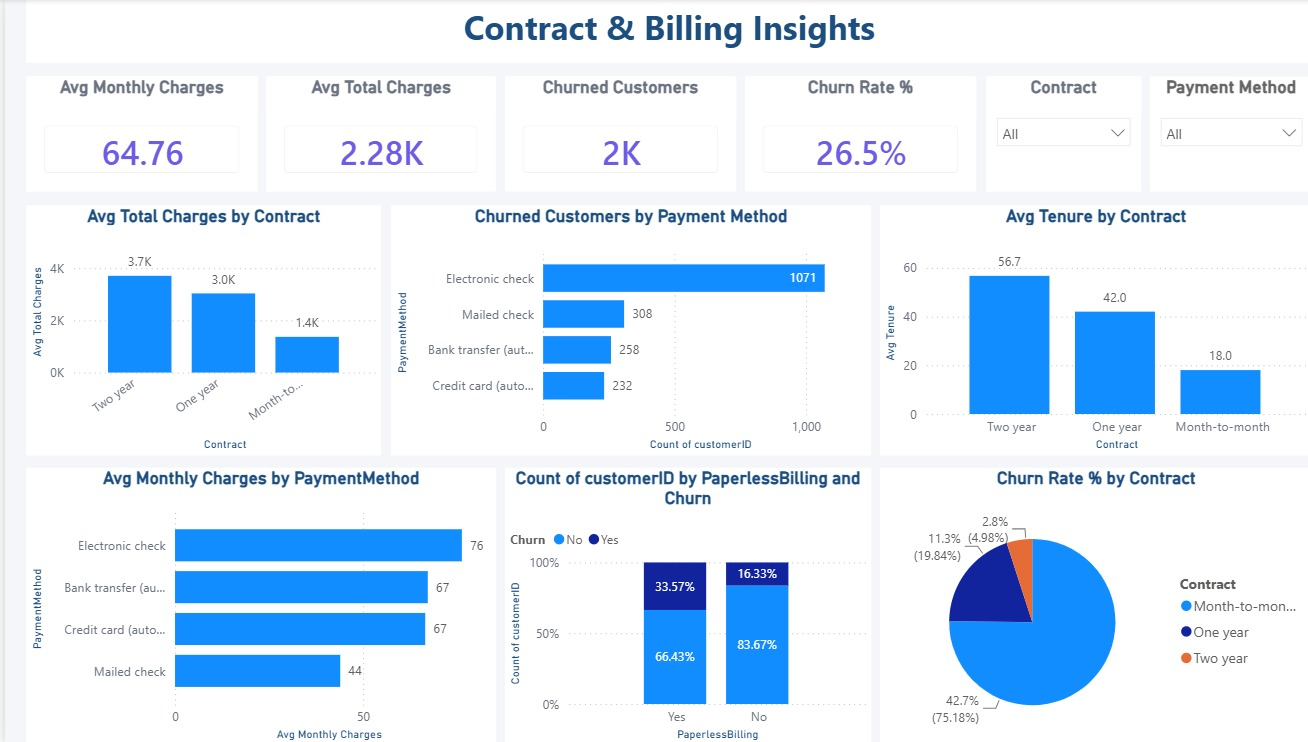

The dashboard page shown, as its layout file describes it:
{"tool":"powerbi","page":{"name":"Contract & Billing Insights","canvas":[1280,720],"ordinal":2},"visuals":[{"type":"textbox","box":[20.5,0,1241.4,61.5],"z":0},{"type":"cardVisual","title":"Avg Monthly Charges","fields":{"Data":["Customers.Avg Monthly Charges"]},"box":[20.5,74.8,223.2,111],"z":1000},{"type":"cardVisual","title":"Avg Total Charges","fields":{"Data":["Customers.Avg Total Charges"]},"box":[252.1,74.8,222,111],"z":2000},{"type":"cardVisual","title":"Churned Customers","fields":{"Data":["Customers.Churned Customers"]},"box":[482.6,74.8,223.2,111],"z":3000},{"type":"cardVisual","title":"Churn Rate %","fields":{"Data":["Customers.Churn Rate %"]},"box":[714.2,74.8,223.2,111],"z":4000},{"type":"pieChart","fields":{"Category":["Customers.Contract"],"Y":["Customers.Churn Rate %"]},"box":[844.5,452.4,417.4,267.8],"z":5000},{"type":"clusteredBarChart","title":"Churned Customers by Payment Method","fields":{"Category":["Customers.PaymentMethod"],"Y":["CountNonNull(Customers.customerID)"]},"box":[372.8,199.1,463.3,241.3],"z":6000},{"type":"clusteredColumnChart","fields":{"Y":["Customers.Avg Total Charges"],"Category":["Customers.Contract"]},"box":[20.7,198.8,342.6,241.3],"z":7000},{"type":"clusteredBarChart","fields":{"Category":["Customers.PaymentMethod"],"Y":["Customers.Avg Monthly Charges"]},"box":[20.5,452.4,453.6,267.8],"z":8000},{"type":"hundredPercentStackedColumnChart","fields":{"Category":["Customers.PaperlessBilling"],"Y":["CountNonNull(Customers.customerID)"],"Series":["Customers.Churn"]},"box":[482.6,452.4,353.5,267.8],"z":9000},{"type":"clusteredColumnChart","fields":{"Category":["Customers.Contract"],"Y":["Customers.Avg Tenure"]},"box":[844.5,199.1,417.4,241.3],"z":10000},{"type":"slicer","title":"Contract","fields":{"Values":["Customers.Contract"]},"box":[947.1,74.8,149.6,111],"z":11000},{"type":"slicer","title":"Payment Method","fields":{"Values":["Customers.PaymentMethod"]},"box":[1105.1,74.8,156.8,111],"z":12000}]}

Visuals, with their boxes in screenshot pixels (x1, y1, x2, y2), scaled from the page's 1280x720 canvas onto the 1308x742 screenshot:
textbox: (left=21, top=0, right=1290, bottom=63)
"Avg Monthly Charges" cardVisual: (left=21, top=77, right=249, bottom=191)
"Avg Total Charges" cardVisual: (left=258, top=77, right=484, bottom=191)
"Churned Customers" cardVisual: (left=493, top=77, right=721, bottom=191)
"Churn Rate %" cardVisual: (left=730, top=77, right=958, bottom=191)
pieChart - Customers.Contract x Customers.Churn Rate %: (left=863, top=466, right=1290, bottom=741)
"Churned Customers by Payment Method" clusteredBarChart: (left=381, top=205, right=854, bottom=454)
clusteredColumnChart - Customers.Avg Total Charges x Customers.Contract: (left=21, top=205, right=371, bottom=454)
clusteredBarChart - Customers.PaymentMethod x Customers.Avg Monthly Charges: (left=21, top=466, right=484, bottom=741)
hundredPercentStackedColumnChart - Customers.PaperlessBilling x CountNonNull(Customers.customerID): (left=493, top=466, right=854, bottom=741)
clusteredColumnChart - Customers.Contract x Customers.Avg Tenure: (left=863, top=205, right=1290, bottom=454)
"Contract" slicer: (left=968, top=77, right=1121, bottom=191)
"Payment Method" slicer: (left=1129, top=77, right=1290, bottom=191)
